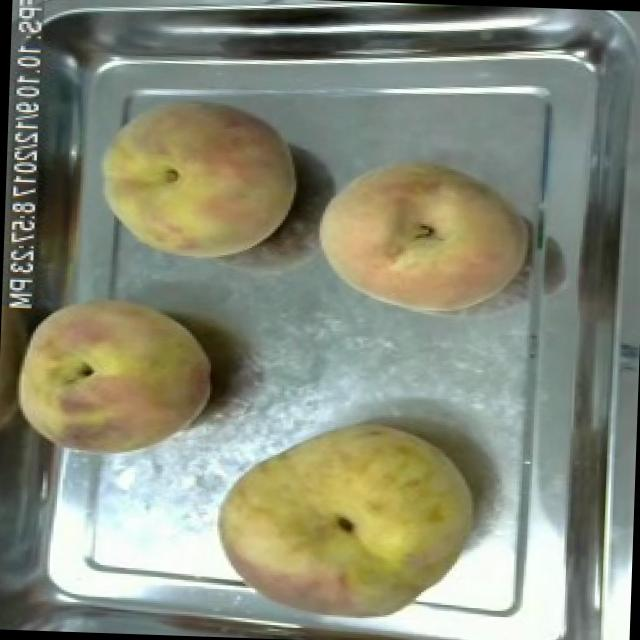Fruit: (199, 406, 483, 640), (84, 88, 306, 271), (307, 150, 537, 326), (2, 286, 222, 470)
